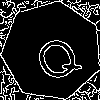Q: (26, 26, 85, 87)
